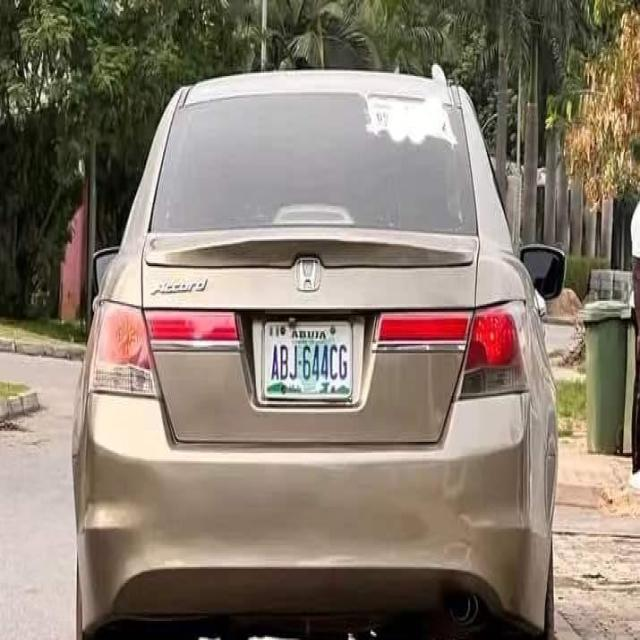Nigerian License Plate - vdataset benjamin-daria: (262, 315, 354, 406)
